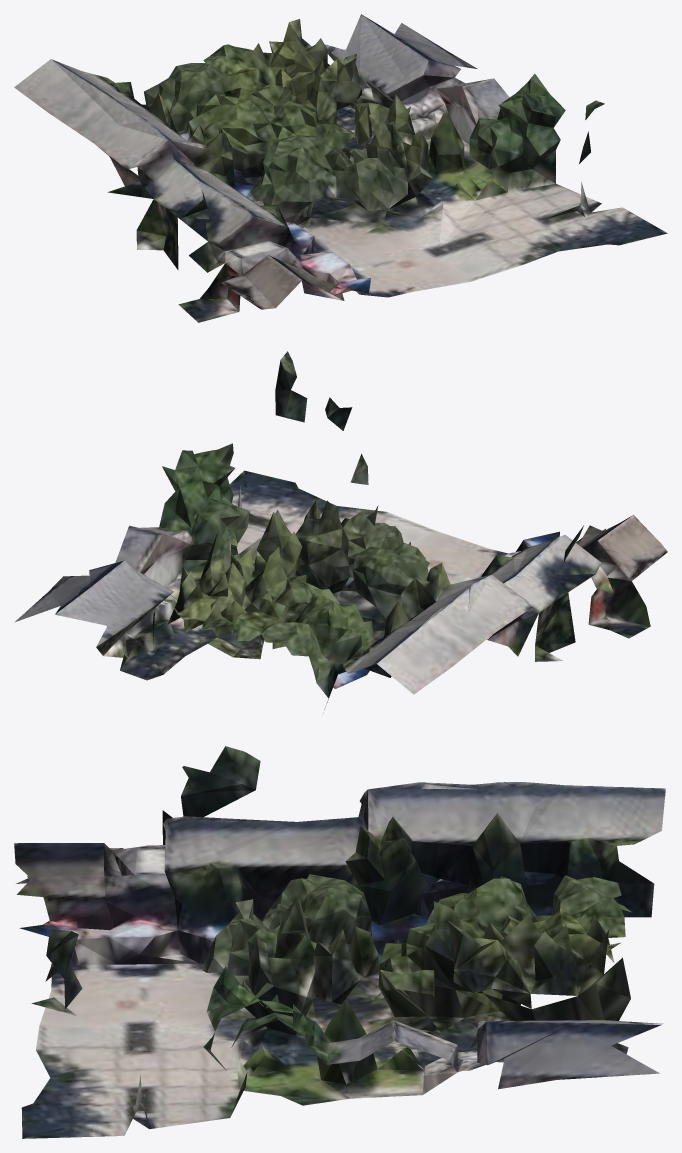
File: Tile_+005_+003_L17_00.glb
3 views of the same model, one above another, from view 1: azimuth 30°, elevation 25°; view 2: azimuth 150°, elevation 25°; view 3: azimuth 270°, elevation 25° (orthographic). The views are drawn at different scales.
Bounding box in the file's own units: 60.87 × 20.22 × 61.27.
Materials: 1 (1 with a texture image).
